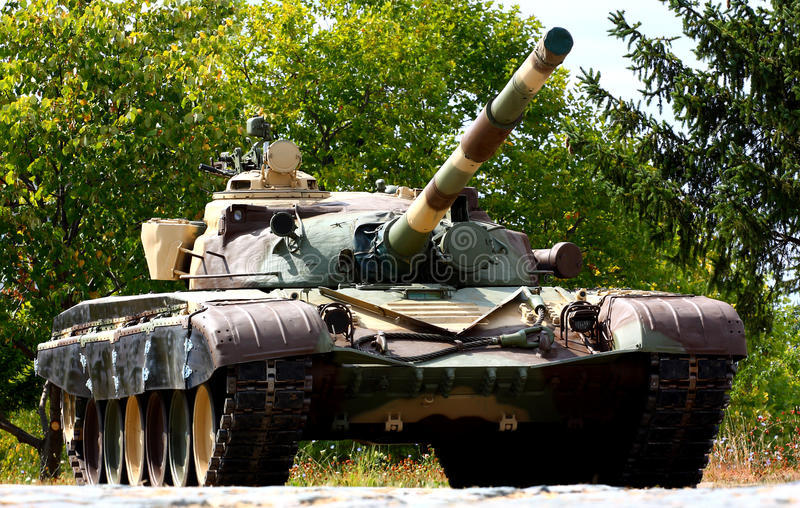t72: (51, 33, 744, 489)
